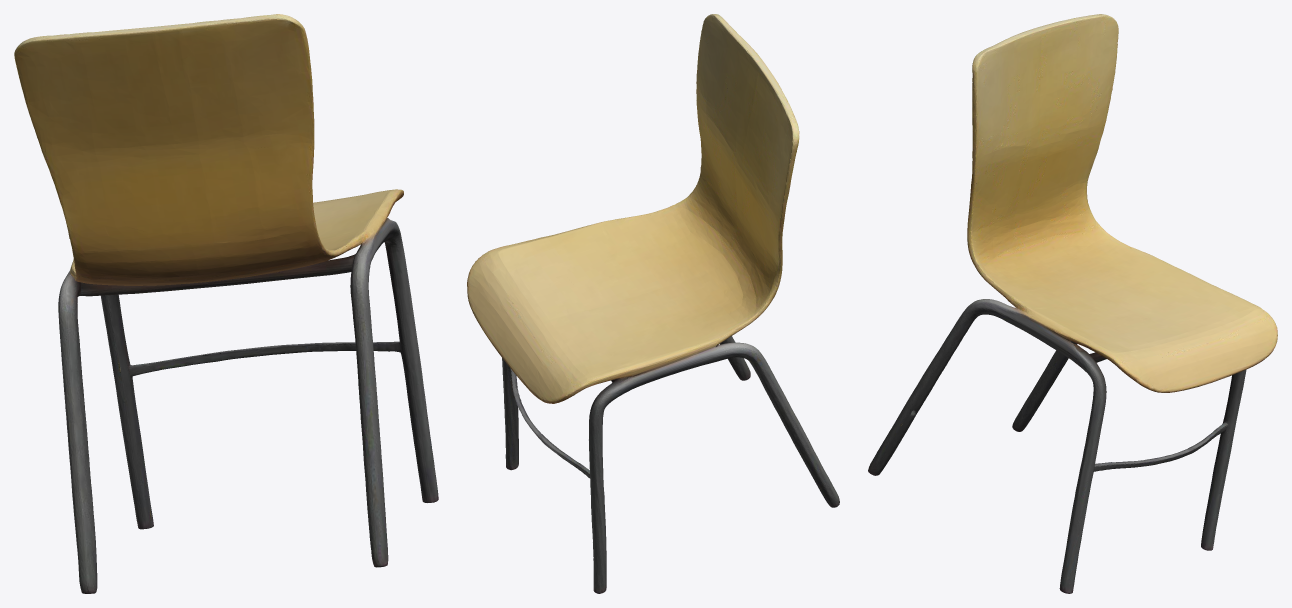
File: light-colored_wooden_chair_at_middle_row_left_table_(right)_000.glb
3 renders of one model, left to right at view 1: azimuth 30°, elevation 25°; view 2: azimuth 150°, elevation 25°; view 3: azimuth 270°, elevation 25°, orthographic. The views are drawn at different scales.
Parts seen in each view (by area): view 1: light-colored_wooden_chair_at_middle_row_left_table_(right)_; view 2: light-colored_wooden_chair_at_middle_row_left_table_(right)_; view 3: light-colored_wooden_chair_at_middle_row_left_table_(right)_.
Boxes of the visible parts, x1=… form: light-colored_wooden_chair_at_middle_row_left_table_(right)_: x1=14, y1=14, x2=438, y2=593; light-colored_wooden_chair_at_middle_row_left_table_(right)_: x1=467, y1=14, x2=839, y2=593; light-colored_wooden_chair_at_middle_row_left_table_(right)_: x1=868, y1=14, x2=1277, y2=593.
Size of the model in its own units: 0.3606 by 0.5353 by 0.4016.
Materials: 1 (1 with a texture image).
